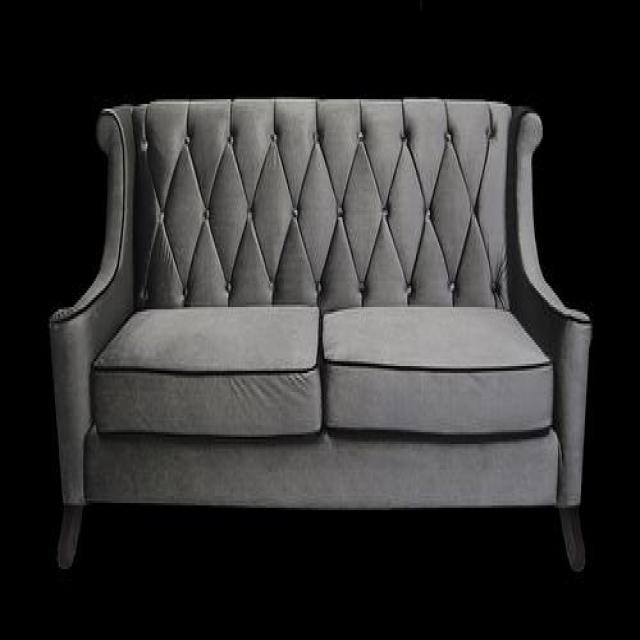sofa: (52, 96, 596, 579)
